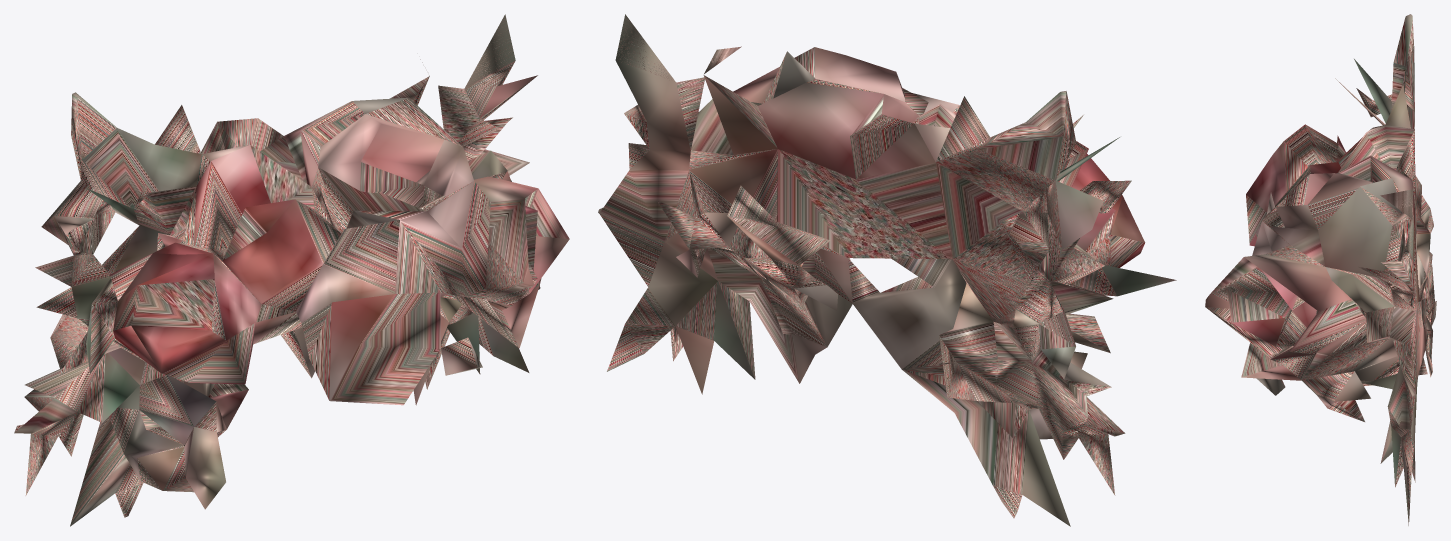
3 renders of one model, left to right at view 1: azimuth 30°, elevation 25°; view 2: azimuth 150°, elevation 25°; view 3: azimuth 270°, elevation 25°, orthographic. The views are drawn at different scales.
Visible parts, largest first — view 1: Rose-Bouquet-10-15; view 2: Rose-Bouquet-10-15; view 3: Rose-Bouquet-10-15.
Part boxes in pixels (box(x1,y1,x2,y2)): Rose-Bouquet-10-15: box(14, 14, 569, 526); Rose-Bouquet-10-15: box(598, 14, 1176, 526); Rose-Bouquet-10-15: box(1205, 14, 1436, 525).
Size of the model in its own units: 0.2998 by 0.2396 by 0.1378.
Materials: 1 (1 with a texture image).
